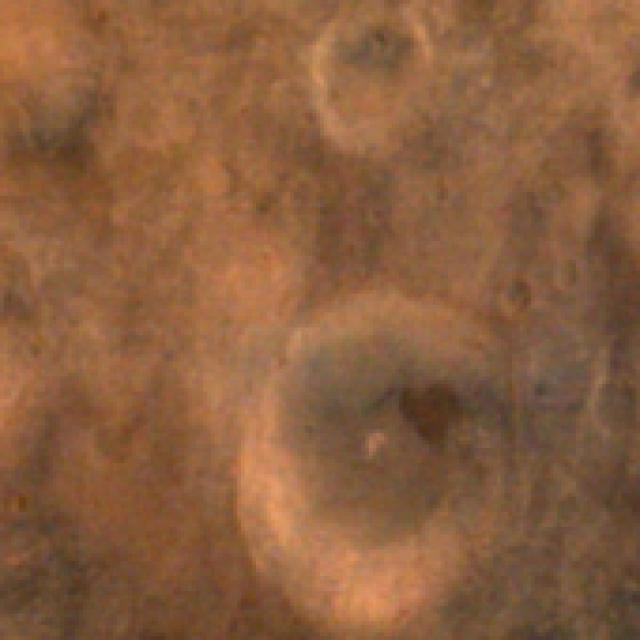Crater: (244, 286, 516, 629), (309, 0, 467, 166), (0, 203, 49, 452)
